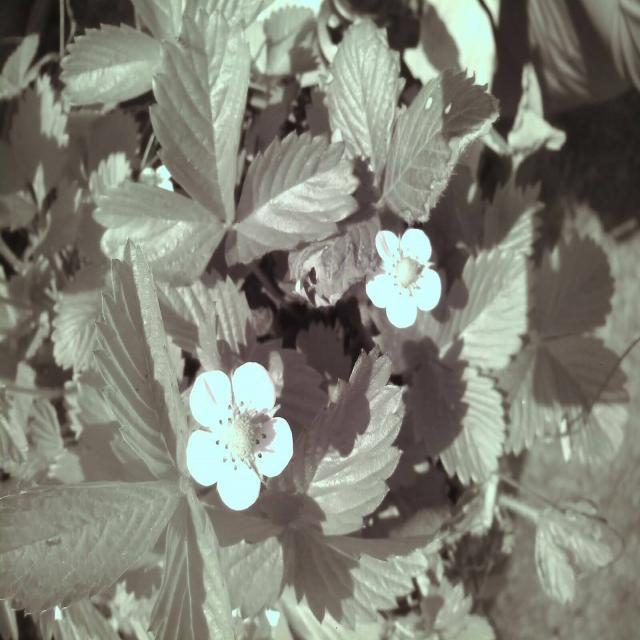flower: (184, 363, 297, 518), (366, 227, 444, 333)
